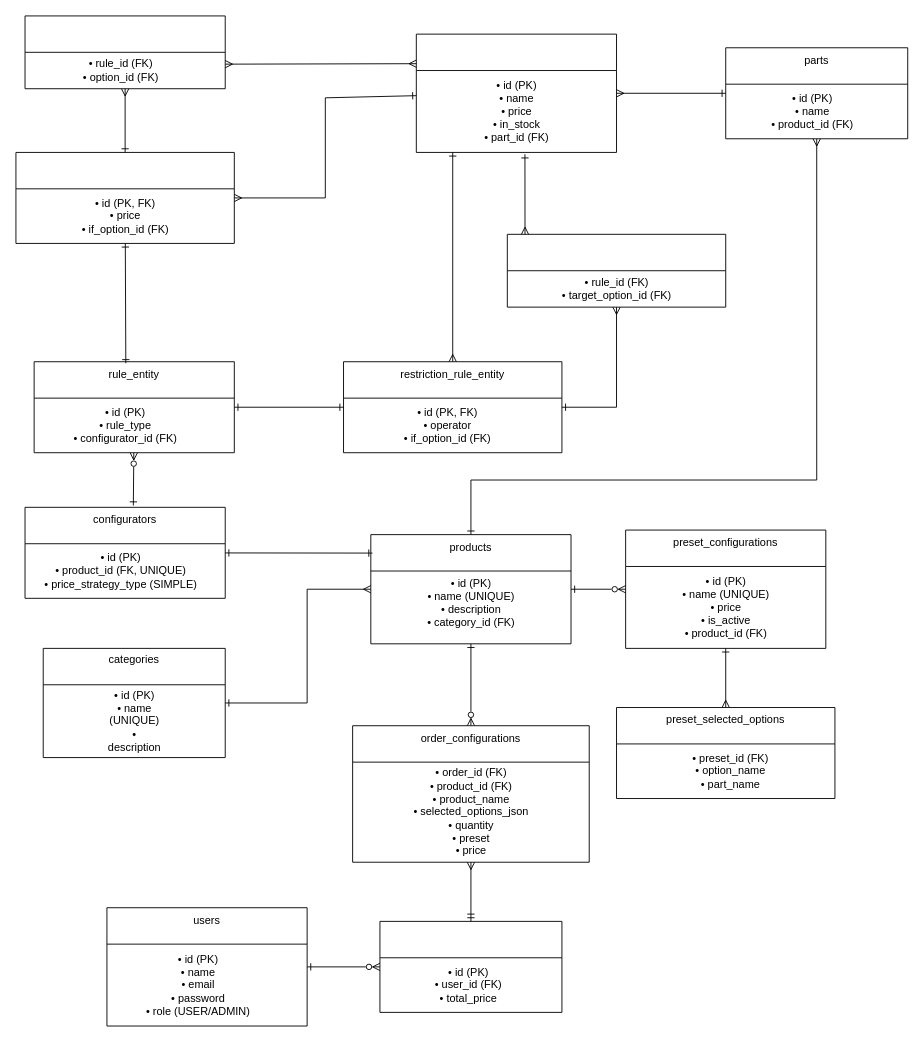
This 924x1042 diagram has some shape labels left out. Each missing label, with the box of its shape:
orders: (379, 920, 562, 1012)
part_options: (415, 33, 617, 152)
price_condition_rule_entity: (15, 152, 234, 243)
rule_required_options: (24, 15, 225, 89)
rule_target_options: (506, 233, 726, 307)
